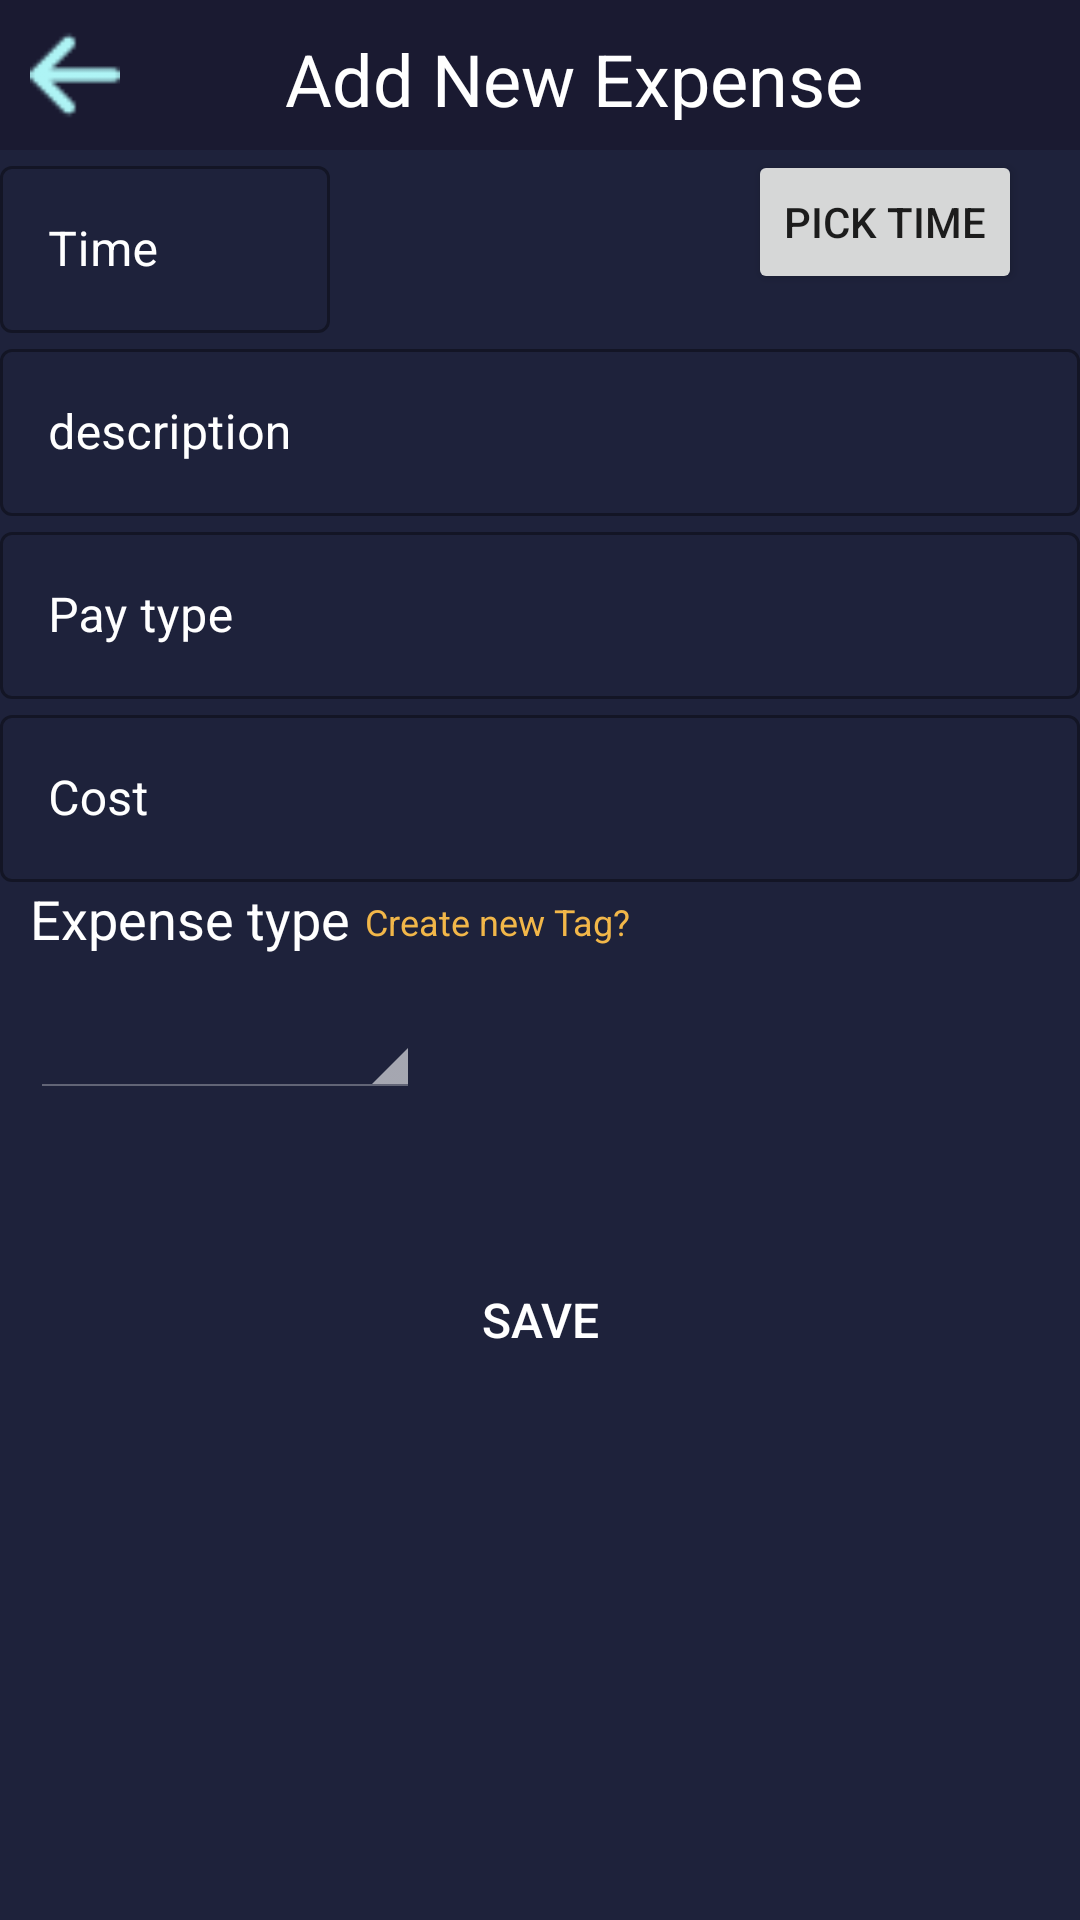

Screen size 1080 × 1920. Icon name, then its box in pixels as (x1, y1, x2, y2):
back: (30, 34, 120, 116)
